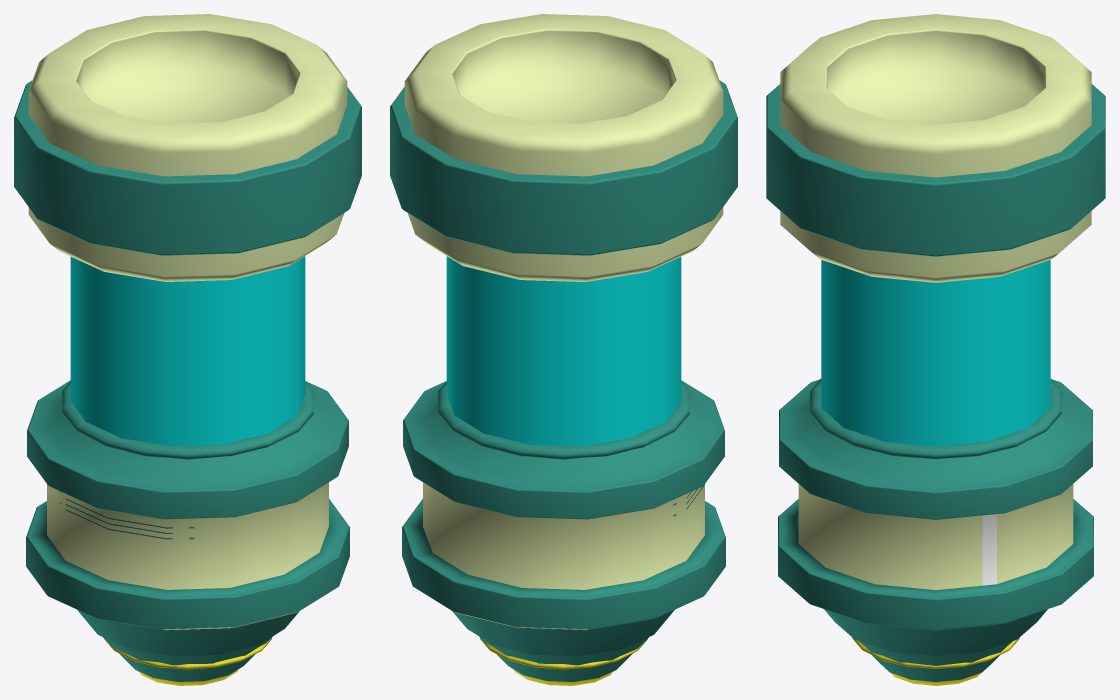
File: MEC0110026.fbx
The picture shows the model from 3 angles, left to right: view 1: azimuth 30°, elevation 25°; view 2: azimuth 150°, elevation 25°; view 3: azimuth 270°, elevation 25°; orthographic projection.
Visible parts, largest first — view 1: smMEC0110026; view 2: smMEC0110026; view 3: smMEC0110026.
Boxes of the visible parts, box(x1,y1,x2,y2) form: smMEC0110026: box(14, 14, 361, 685); smMEC0110026: box(390, 14, 737, 685); smMEC0110026: box(766, 14, 1105, 685).
Bounding box in the file's own units: 175 × 325 × 170.
Materials: 2 (1 with a texture image).
